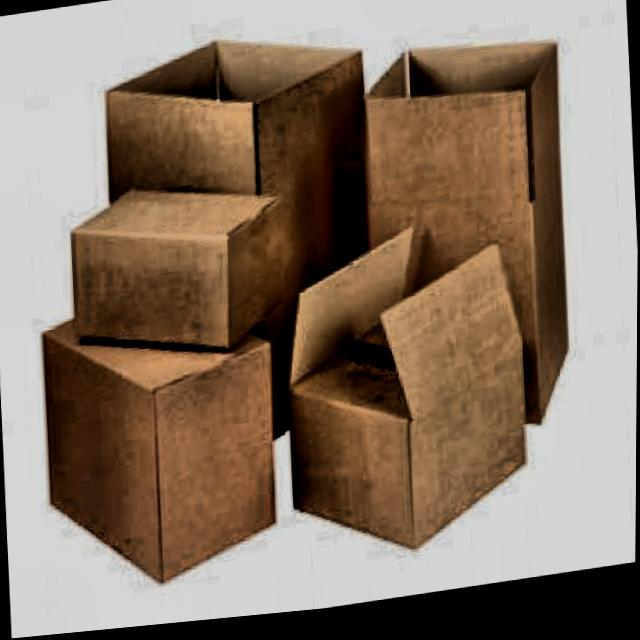Cardbox: (80, 12, 362, 472), (346, 13, 579, 471), (279, 238, 541, 575), (31, 288, 297, 608), (52, 165, 293, 393)
